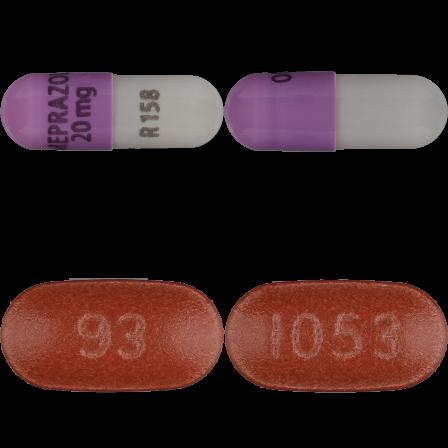63629-4358: (0, 0, 224, 224)
